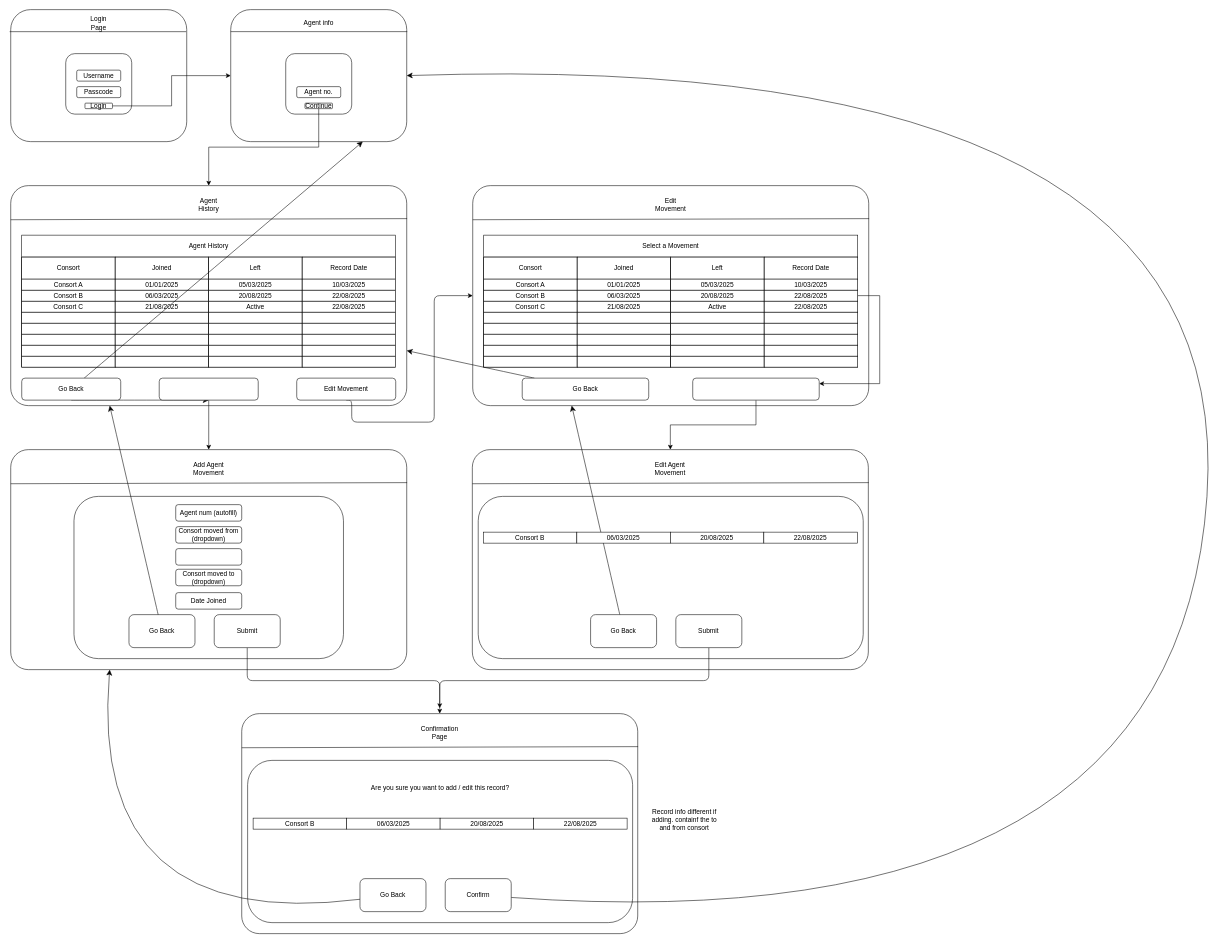
Image size: 1218x943. Some labels were removed from this diagram. The centre of each missing label's shape, as x and y in pixels:
Add Movement: the point at 208,389
Date Left: the point at 208,556
Edit: the point at 755,389
